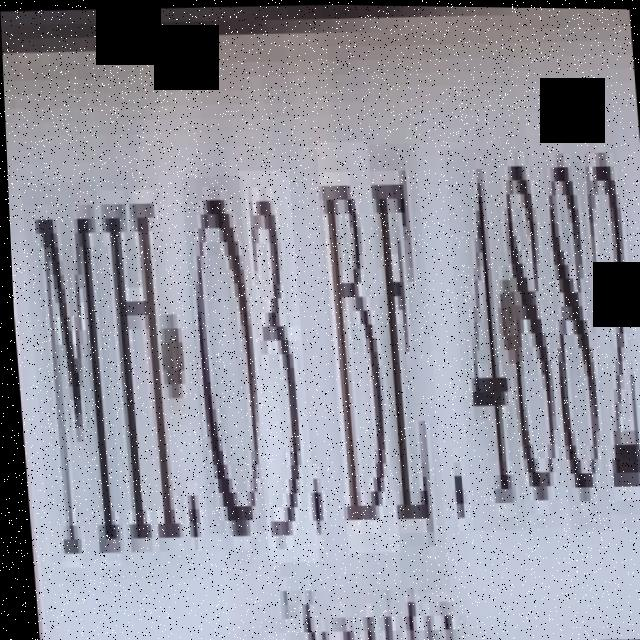0: (179, 175, 266, 535)
3: (236, 168, 314, 562)
4: (442, 147, 521, 529)
8: (497, 148, 563, 537), (540, 159, 607, 530)
B: (315, 139, 395, 552)
E: (364, 141, 445, 592)
H: (93, 181, 180, 548)
M: (18, 180, 120, 563)
